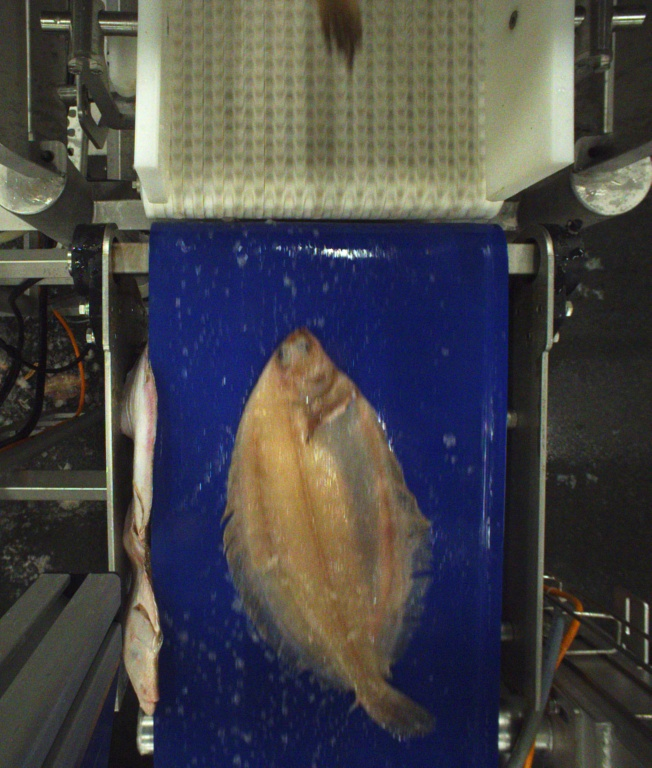WIT: (319, 0, 366, 75)
